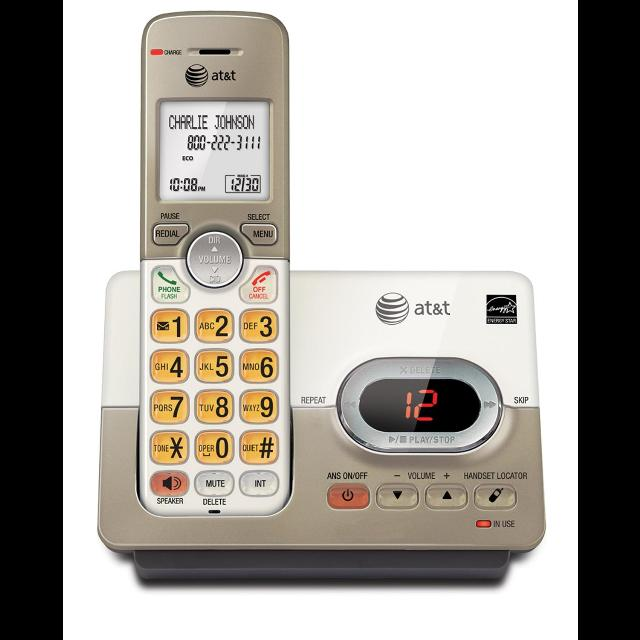Telephone-Set: (82, 11, 560, 592)
